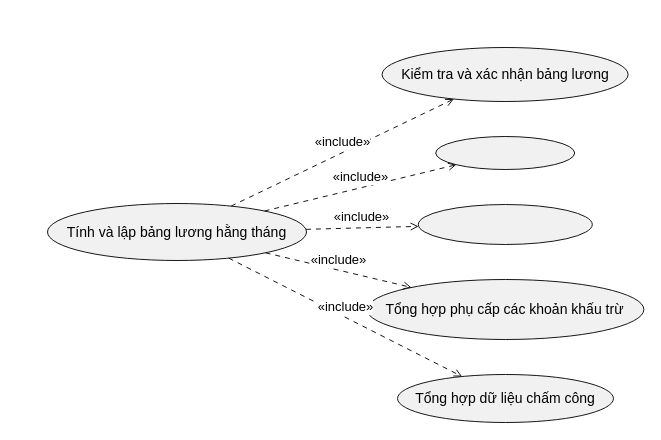
This 661x440 diagram has some shape labels left out. The centre of each missing label's shape, as x and y in pixels:
Lập bảng lương: the point at 505,153
Tính lương nhân viên: the point at 504,224
